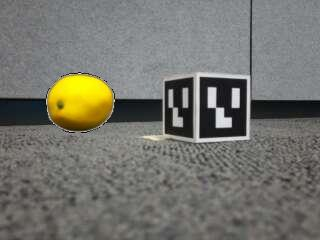lemon: (49, 74, 114, 131)
